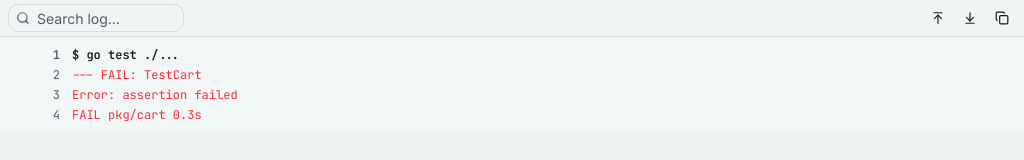
LogPane › searches with match count and n/N navigation
The width and height of the screenshot is (1024, 160).
Type "fail" into the field labelled "Search log" at coordinates (96, 18), box left=8, top=4, right=184, bottom=32
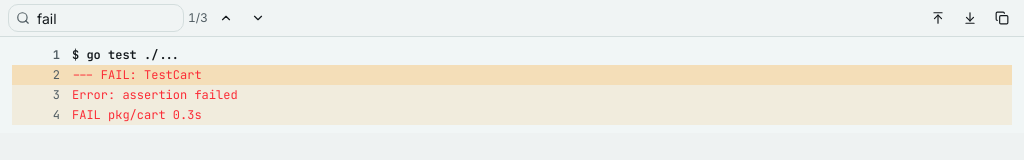
expect the text "1/3" is shown: met, box left=188, top=10, right=208, bottom=26
Press Enter in the field named "Search log", box left=8, top=4, right=184, bottom=32
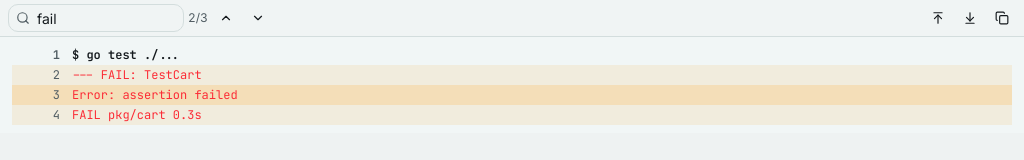
expect the text "2/3" is shown: met, box left=188, top=10, right=208, bottom=26
Press Enter in the field named "Search log", box left=8, top=4, right=184, bottom=32
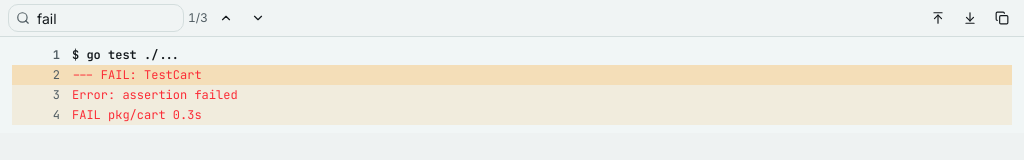
expect the text "1/3" is shown: met, box left=188, top=10, right=208, bottom=26
